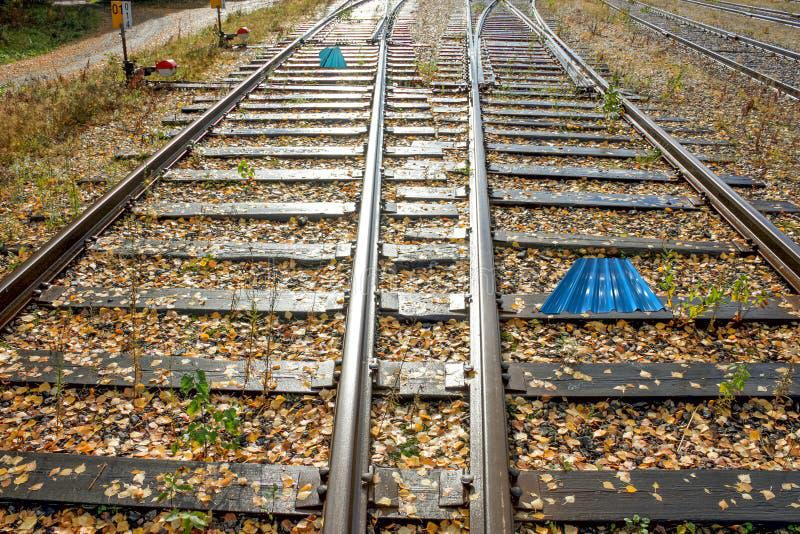Color_steel: (539, 243, 672, 334), (311, 43, 354, 80)
